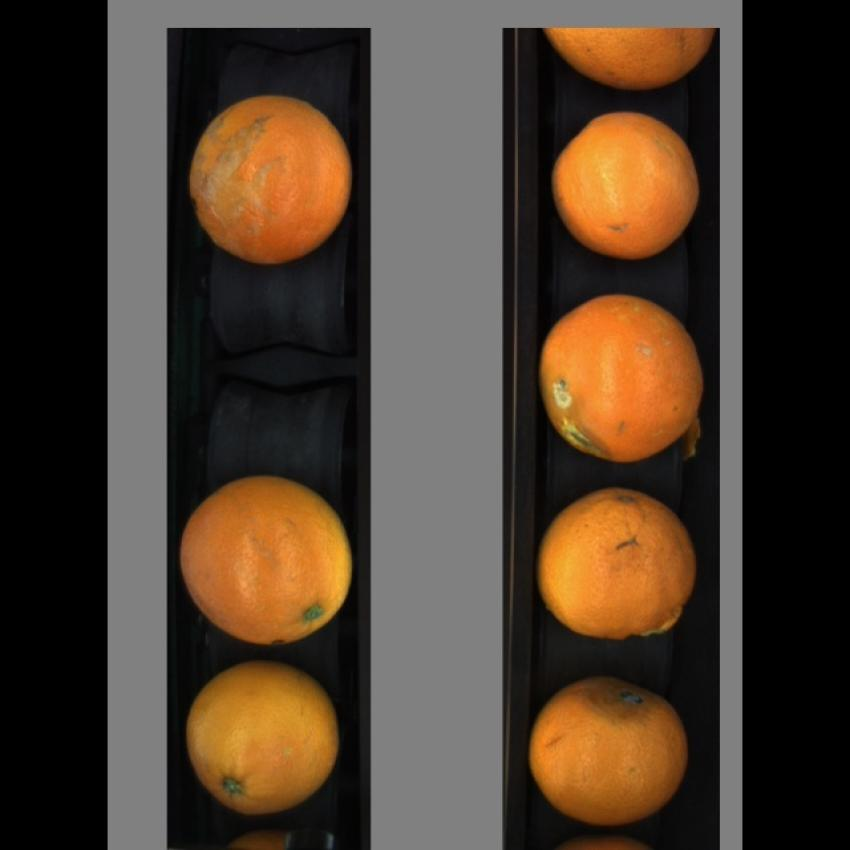Buen estado: (179, 464, 355, 644), (184, 656, 340, 811)
Mal estado: (535, 277, 706, 466), (186, 91, 355, 268), (535, 486, 699, 649), (526, 674, 692, 826), (546, 106, 705, 263), (535, 27, 718, 88)
